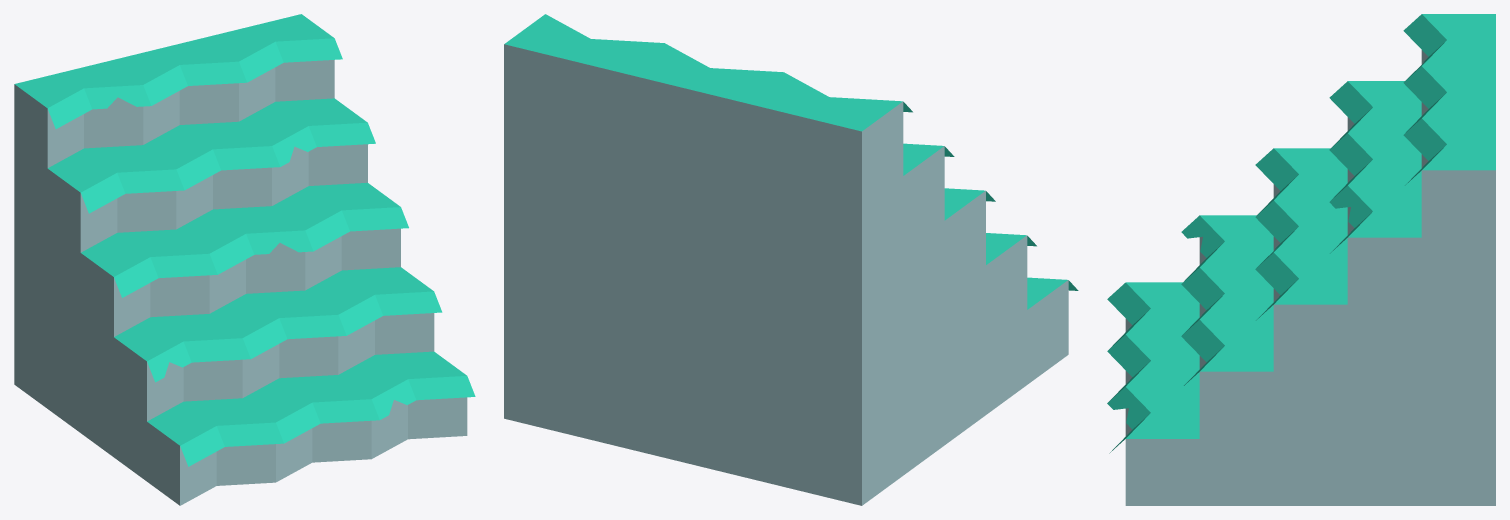
The model's file is cliff_steps_stone.fbx.
3 renders of one model, left to right at view 1: azimuth 30°, elevation 25°; view 2: azimuth 150°, elevation 25°; view 3: azimuth 270°, elevation 25°, orthographic. The views are drawn at different scales.
Visible parts, largest first — view 1: cliff_steps_stone; view 2: cliff_steps_stone; view 3: cliff_steps_stone.
Boxes of the visible parts, <box> form: cliff_steps_stone: <box>14,14,475,505</box>; cliff_steps_stone: <box>504,14,1078,505</box>; cliff_steps_stone: <box>1107,14,1495,505</box>.
Size of the model in its own units: 10 by 10 by 10.5.
